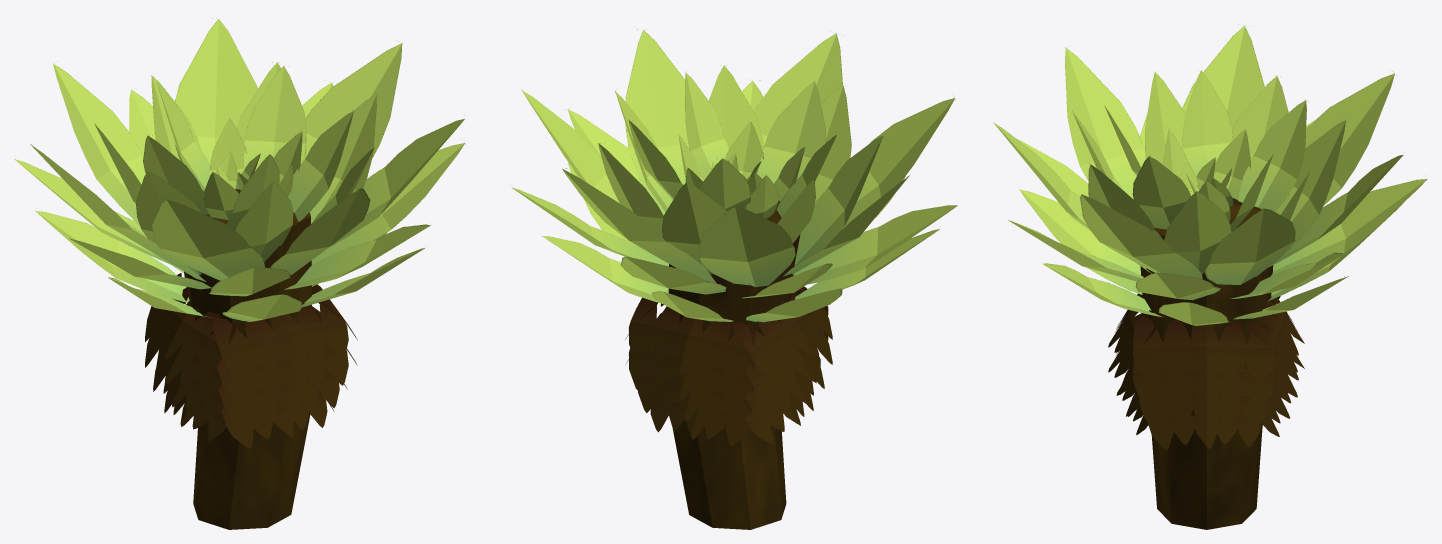
File: Frailejon_.fbx
The picture shows the model from 3 angles, left to right: view 1: azimuth 30°, elevation 25°; view 2: azimuth 150°, elevation 25°; view 3: azimuth 270°, elevation 25°; orthographic projection.
Visible parts, largest first — view 1: Frailejon_; view 2: Frailejon_; view 3: Frailejon_.
Boxes of the visible parts, <box> form: Frailejon_: <box>14,18,465,529</box>; Frailejon_: <box>511,28,957,529</box>; Frailejon_: <box>993,25,1427,529</box>.
Size of the model in its own units: 138 by 135 by 133.
3 materials, 3 textured.
